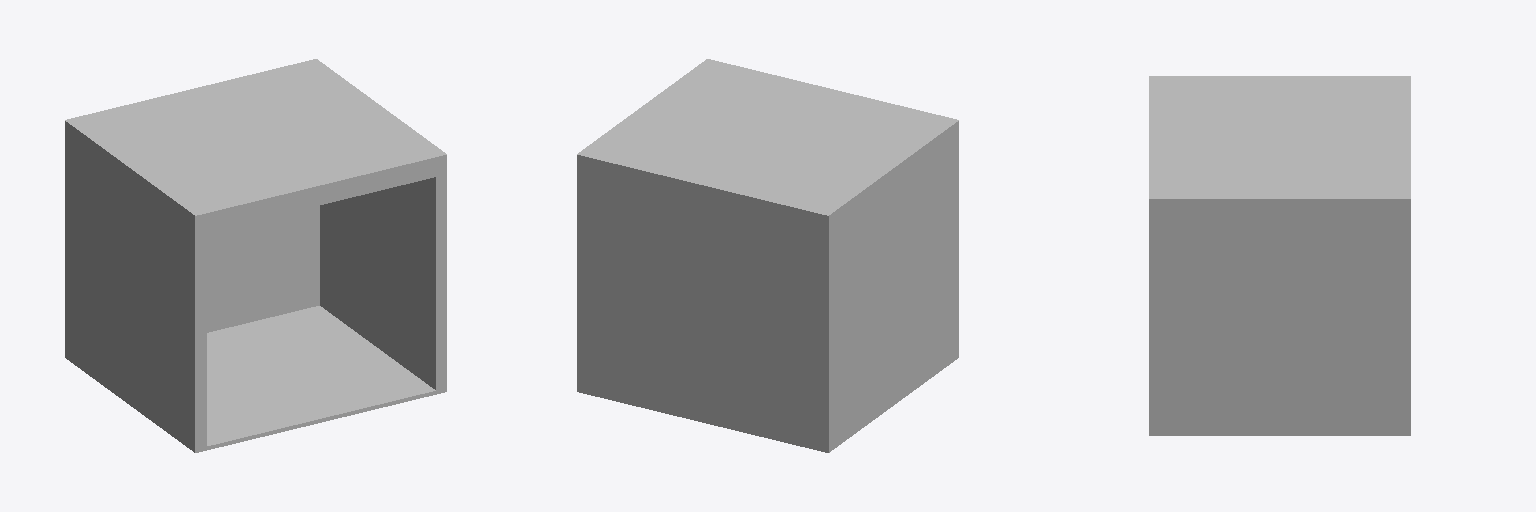
The model's file is Cabinet.obj.
The picture shows the model from 3 angles: view 1: azimuth 30°, elevation 25°; view 2: azimuth 150°, elevation 25°; view 3: azimuth 270°, elevation 25°; orthographic projection.
Parts seen in each view (by area): view 1: Cabinet; view 2: Cabinet; view 3: Cabinet.
Boxes of the visible parts, x1=… form: Cabinet: x1=65, y1=59, x2=446, y2=452; Cabinet: x1=577, y1=59, x2=958, y2=452; Cabinet: x1=1149, y1=76, x2=1410, y2=435.
Bounding box in the file's own units: 1 × 0.9 × 0.9.